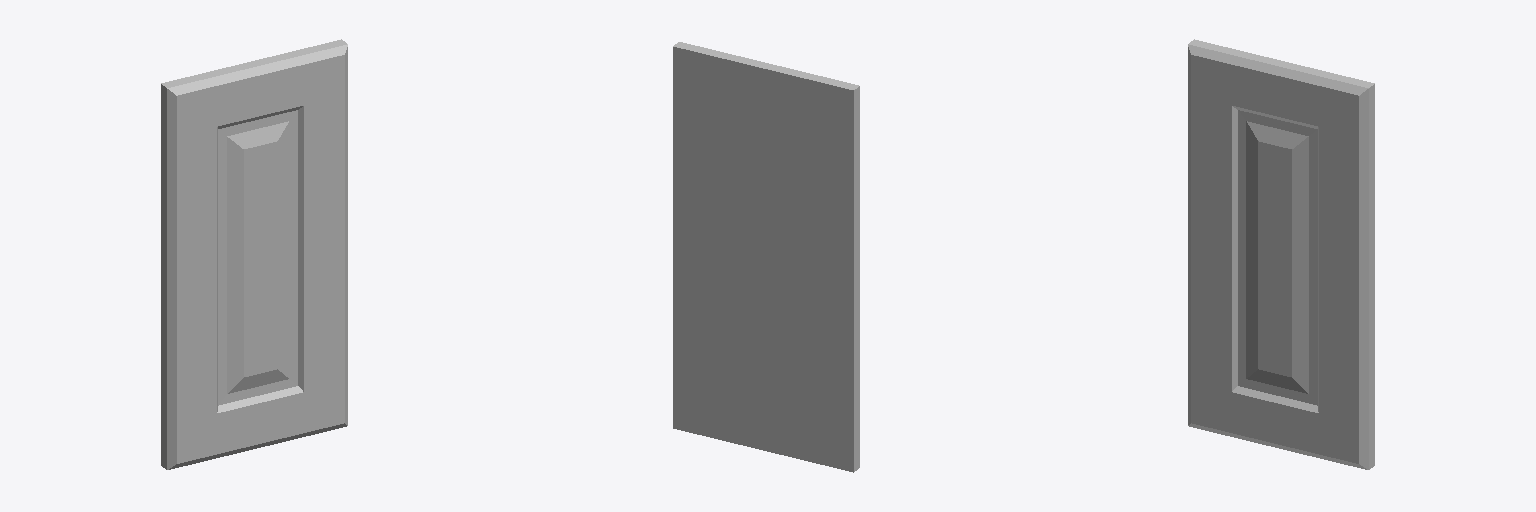
File: IKEA.ART.60221046.obj
3 views of the same model, side by side, from view 1: azimuth 30°, elevation 25°; view 2: azimuth 150°, elevation 25°; view 3: azimuth 330°, elevation 25° (orthographic).
Parts seen in each view (by area): view 1: model_model.019; view 2: model_model.019; view 3: model_model.019.
Boxes of the visible parts, box(x1,y1,x2,y2) form: model_model.019: box(161, 39, 347, 469); model_model.019: box(673, 42, 859, 472); model_model.019: box(1188, 39, 1374, 469).
Bounding box in the file's own units: 0.197 × 0.397 × 0.018.